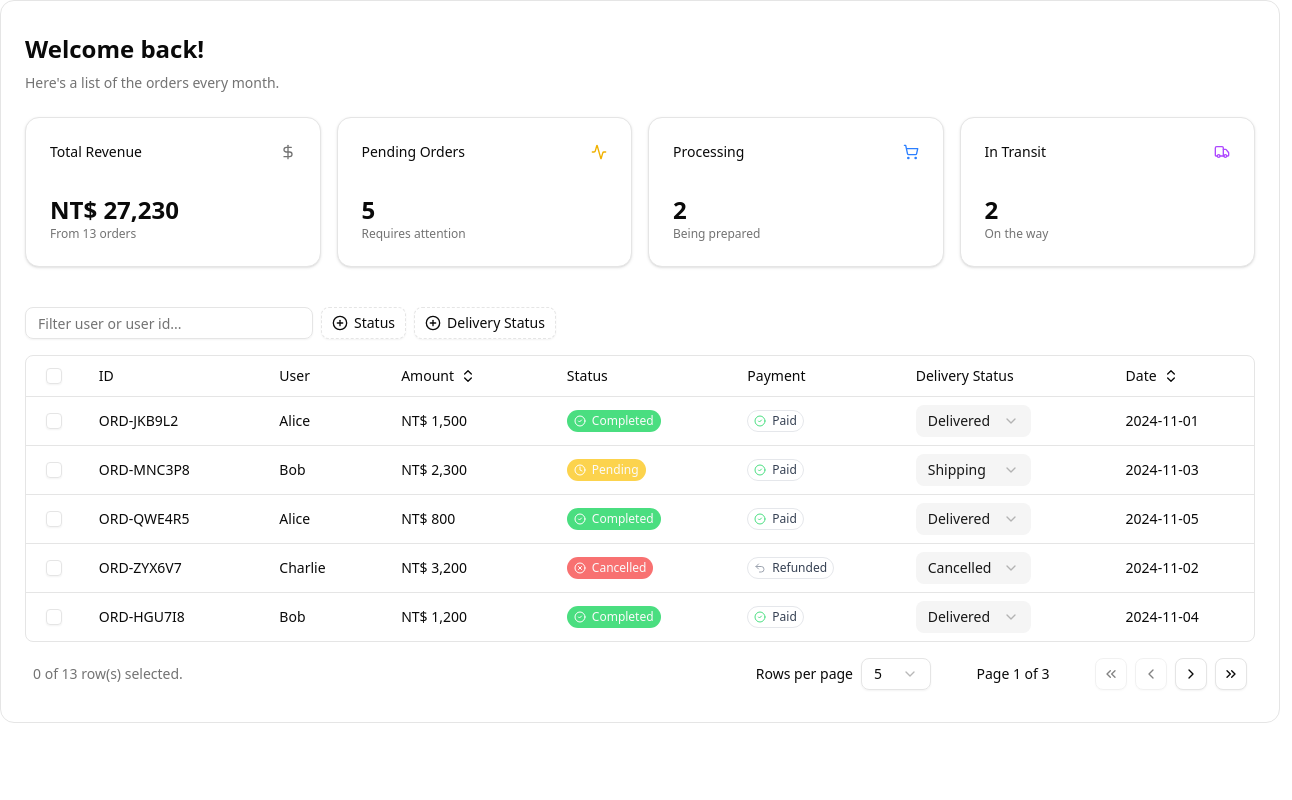
Test: OrderManagementServer › Filter Functionality › navigates to previous page
expect the text "Date" is shown: met, box left=1126, top=366, right=1157, bottom=386
Click the 3rd button named "go to next page" at (1191,674), box left=1175, top=658, right=1207, bottom=690
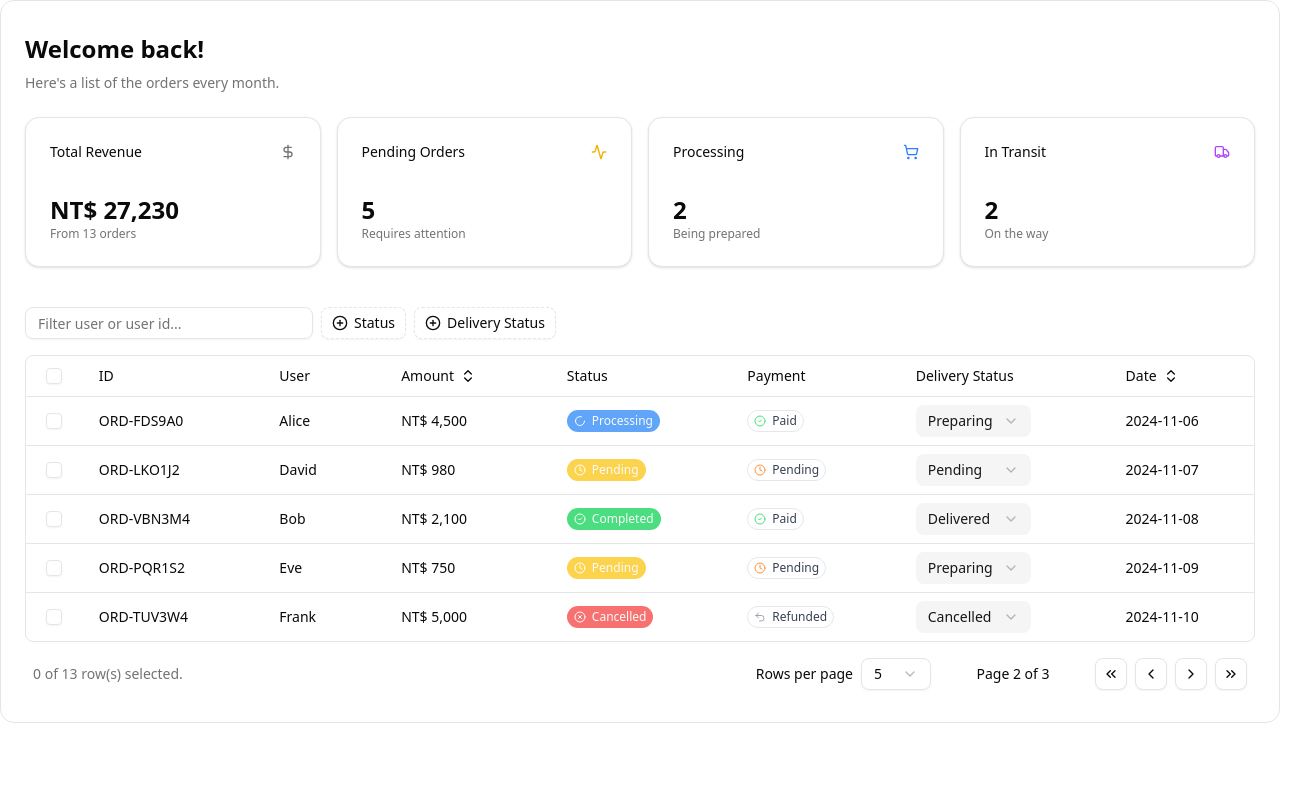
expect the text "Page 2 of 3" is shown: met, box left=976, top=664, right=1050, bottom=682
Click the 2nd button named "go to previous page" at (1151,674), box left=1135, top=658, right=1167, bottom=690
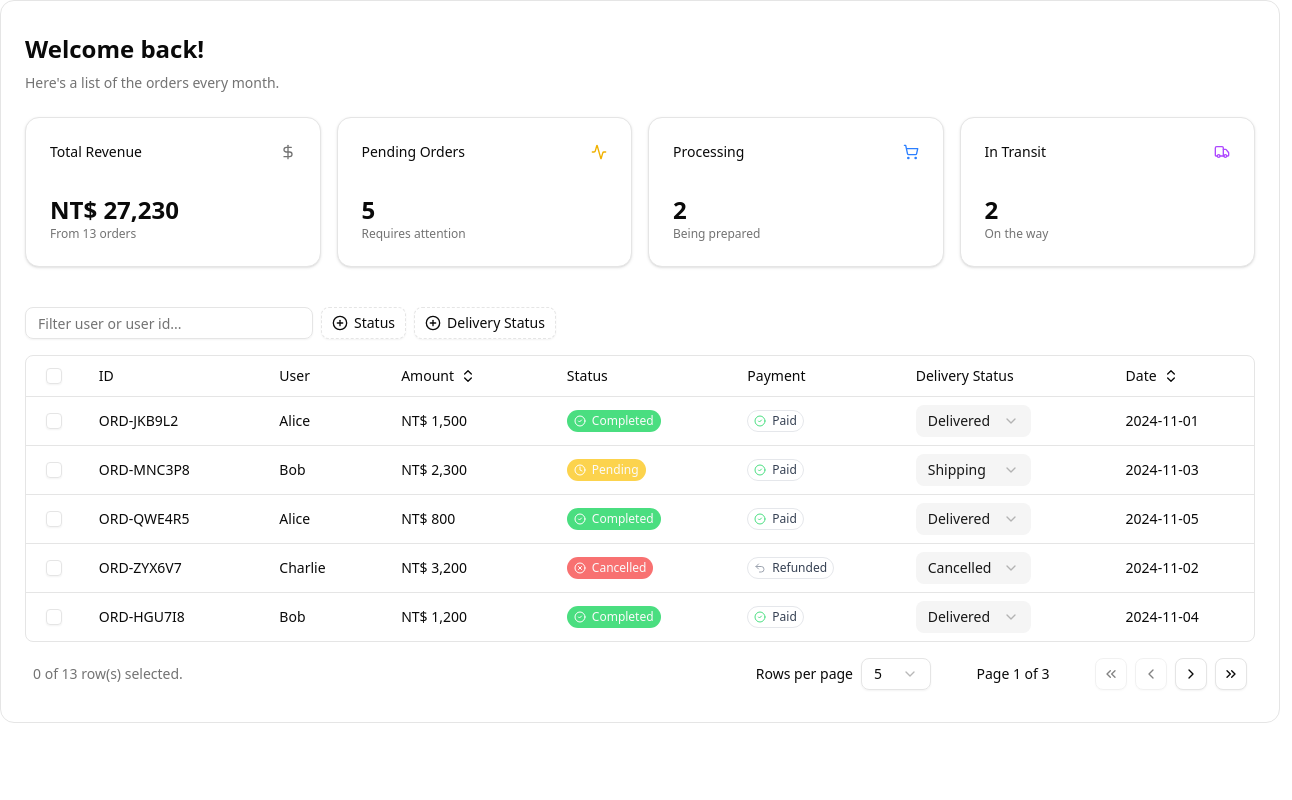
expect the text "Page 1 of 3" is shown: met, box left=976, top=664, right=1050, bottom=682
